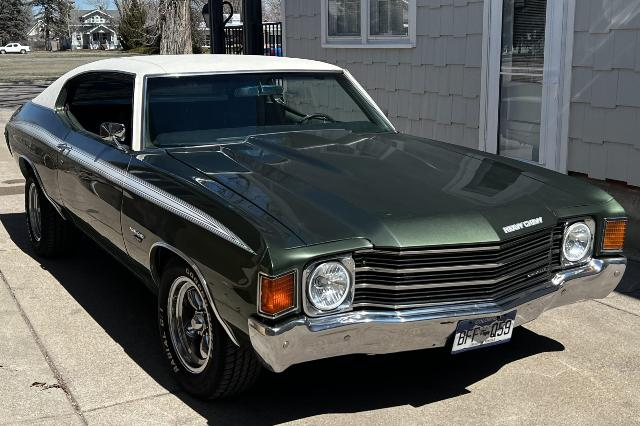chevelle-1972: (4, 56, 627, 399)
